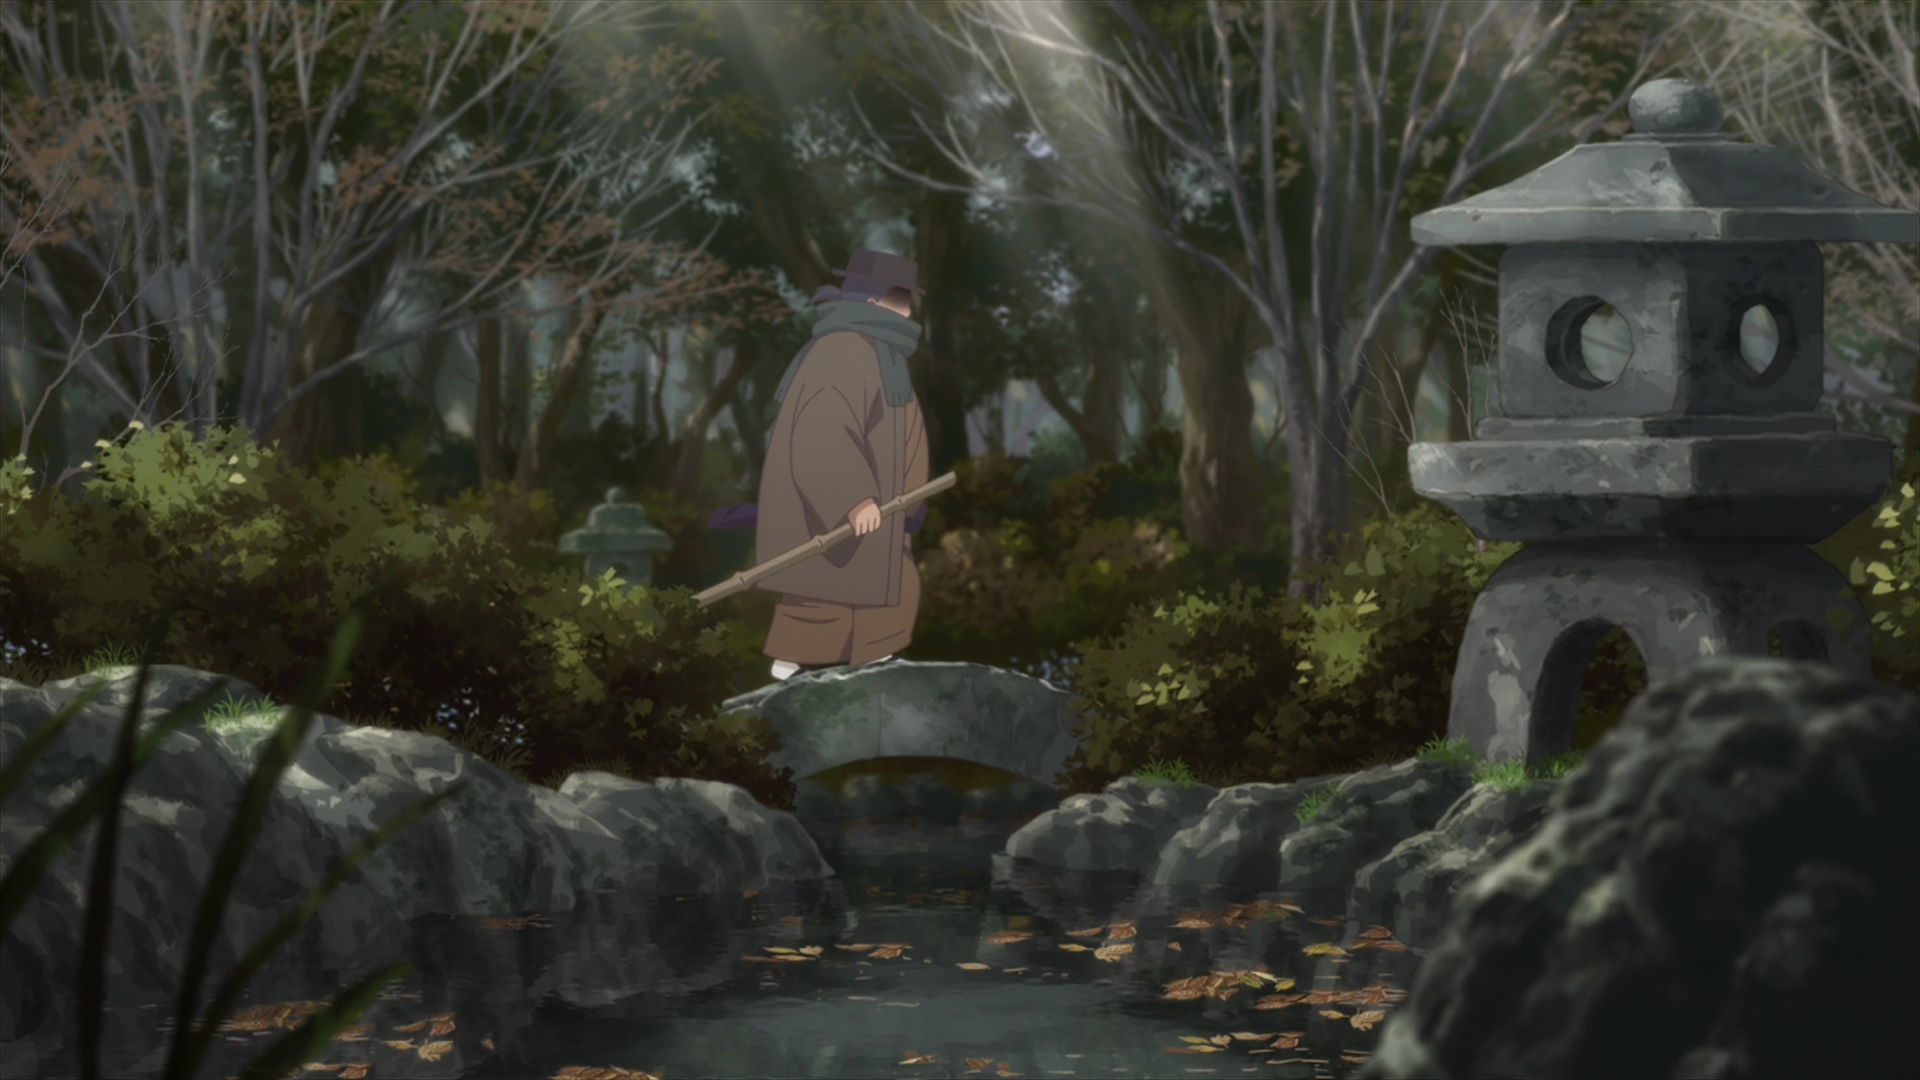其他: (749, 249, 930, 686)
